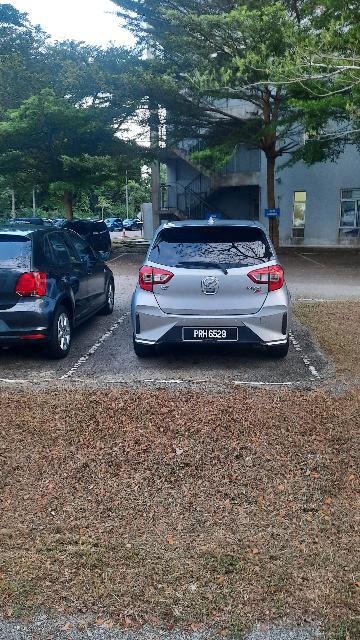License_Plate: (180, 327, 242, 343)
car: (127, 215, 297, 361)
